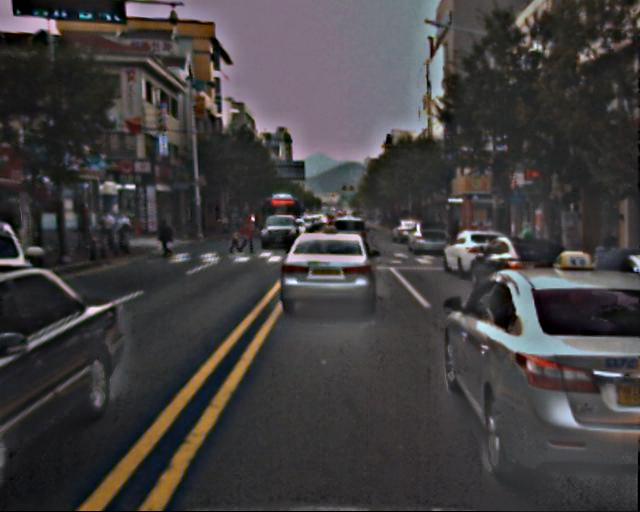person: (100, 209, 174, 259), (591, 237, 627, 325), (240, 213, 257, 254), (550, 221, 567, 262), (228, 228, 239, 256)
